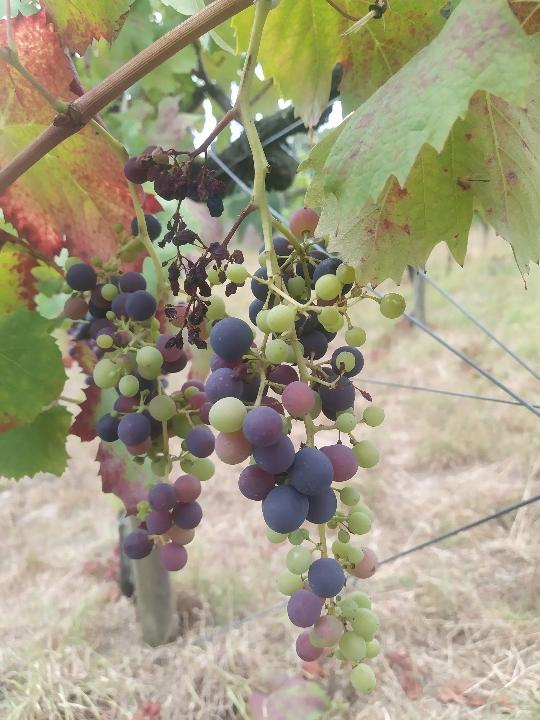grape: (164, 208, 411, 696), (122, 145, 228, 295)
